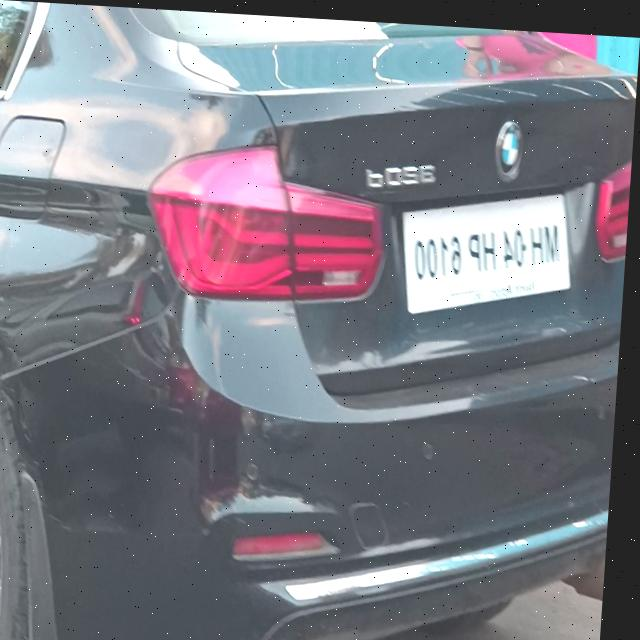plate: (399, 176, 581, 317)
